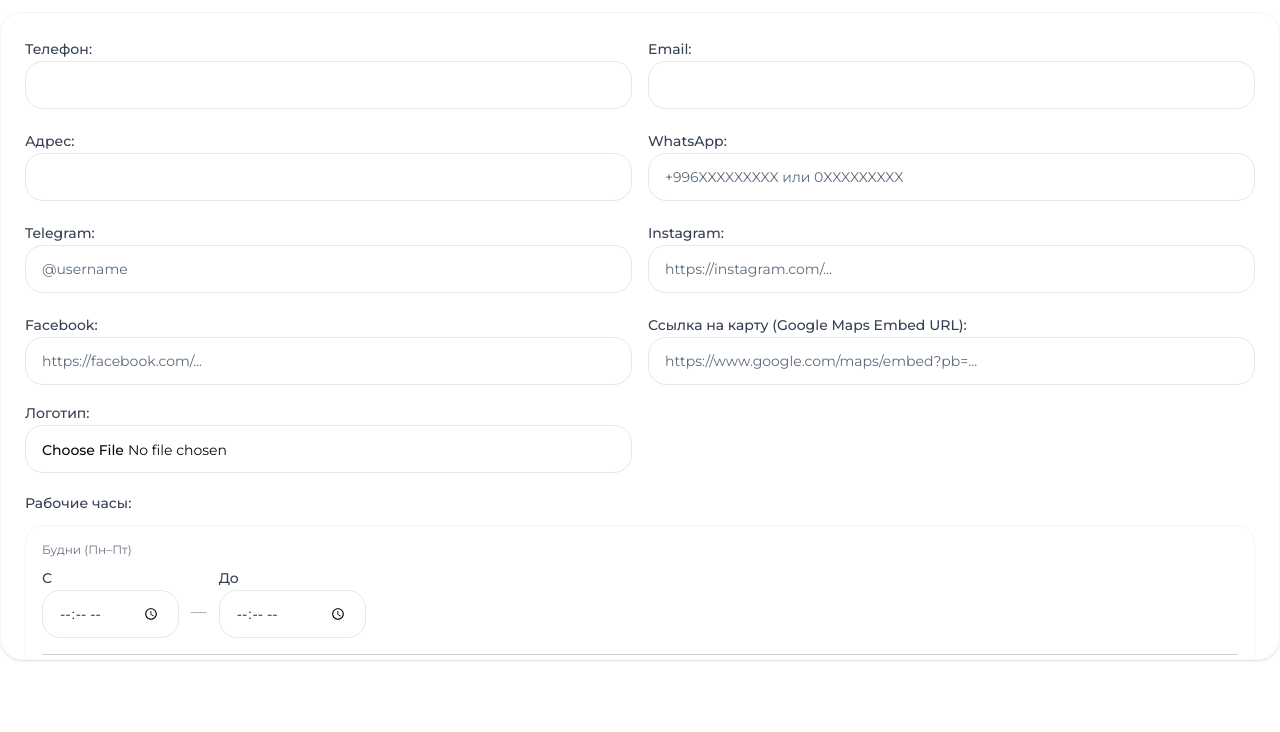
Test case: ContactSettingsForm › рабочие часы › требует время для будней
Step 1. Type "+996700000000" into the field below "Телефон:" → {"x": 328, "y": 85}, box [25, 61, 632, 109]
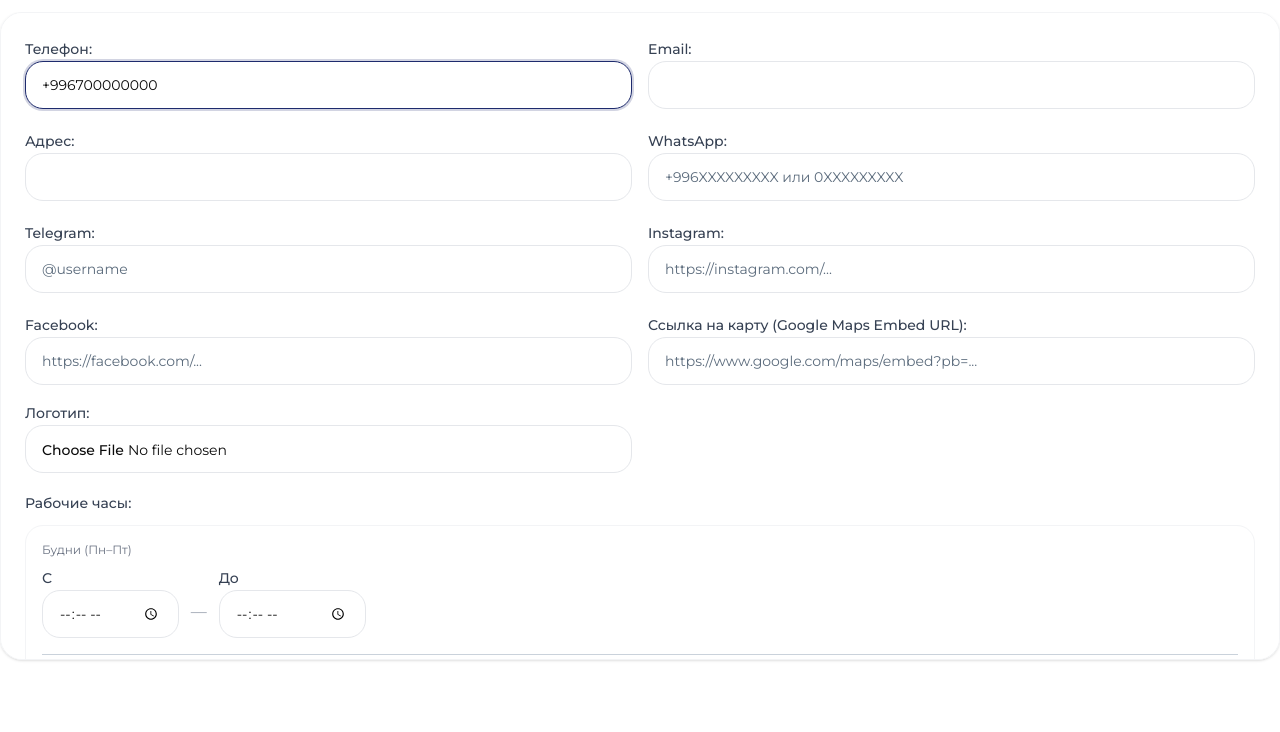
Step 2. Type "a@b.kg" into the field below "Email:" → {"x": 952, "y": 85}, box [648, 61, 1255, 109]
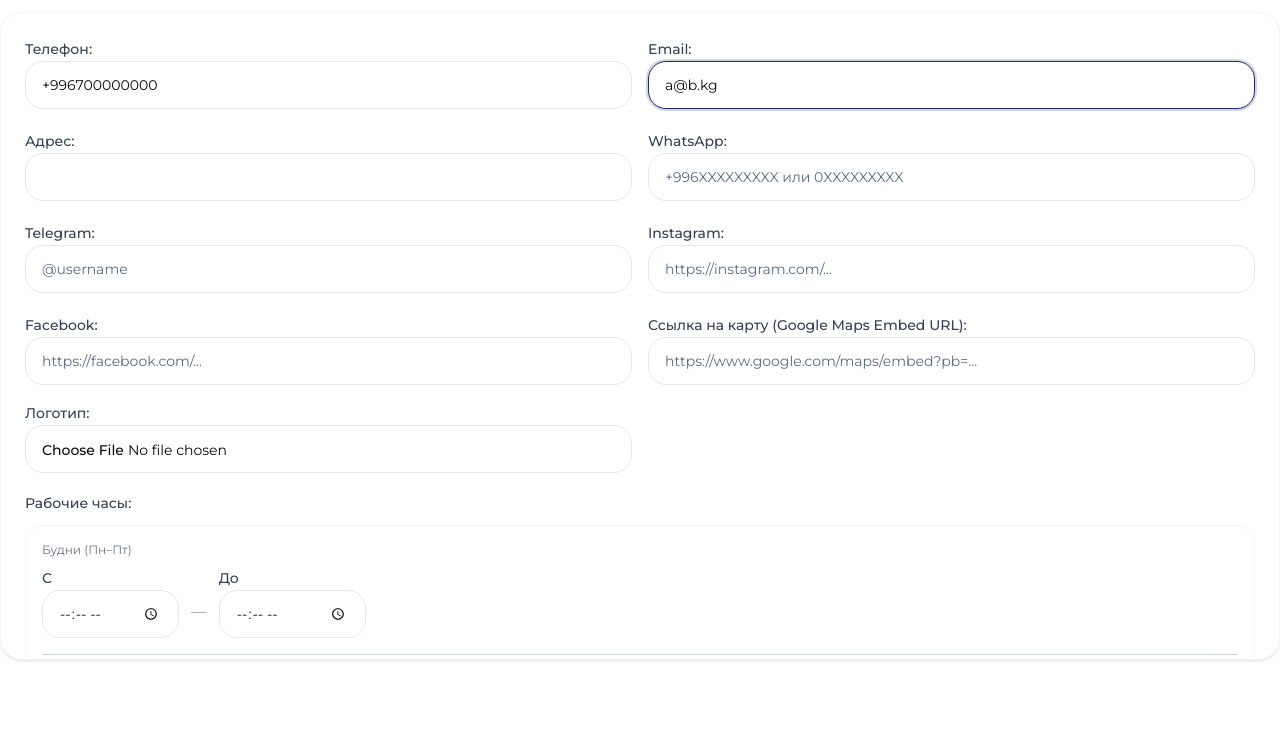
Step 3. Type "Адрес" into the field below "Адрес:" → {"x": 328, "y": 177}, box [25, 153, 632, 201]
(page scrolled)
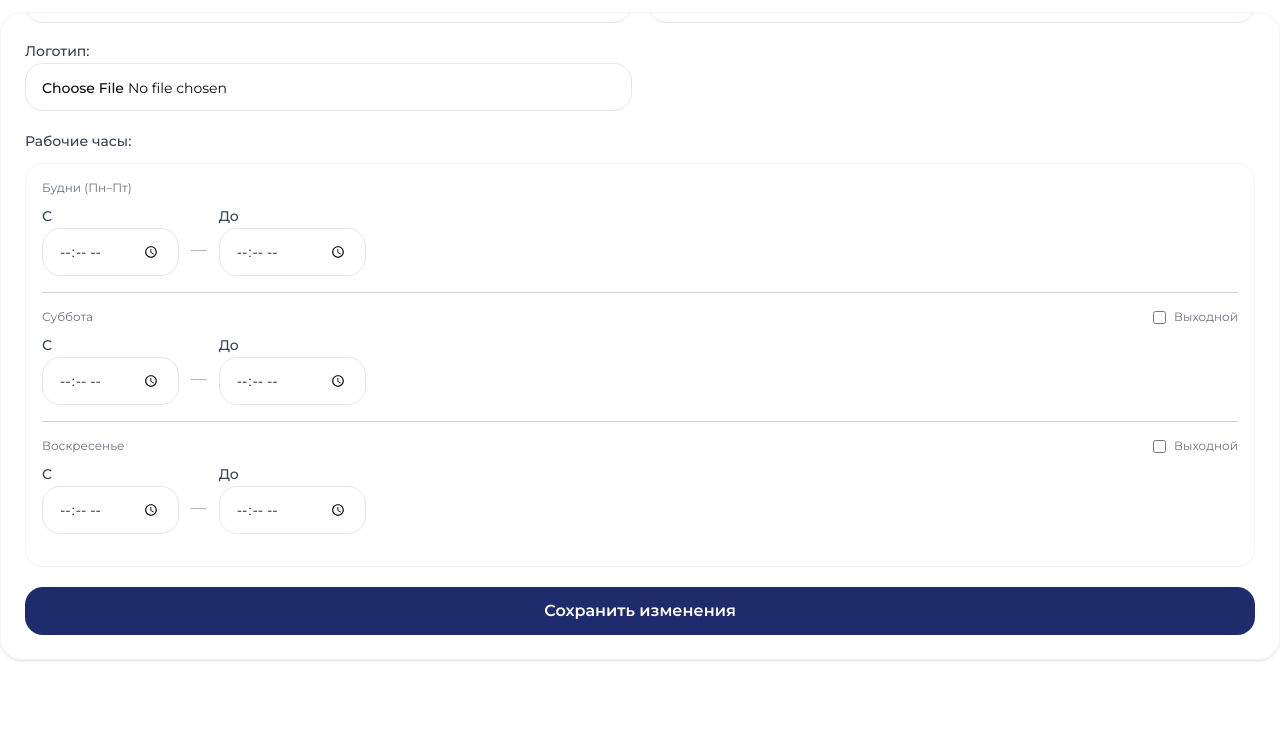
Step 4. Click the button "Сохранить изменения" → {"x": 640, "y": 611}, box [25, 587, 1255, 635]
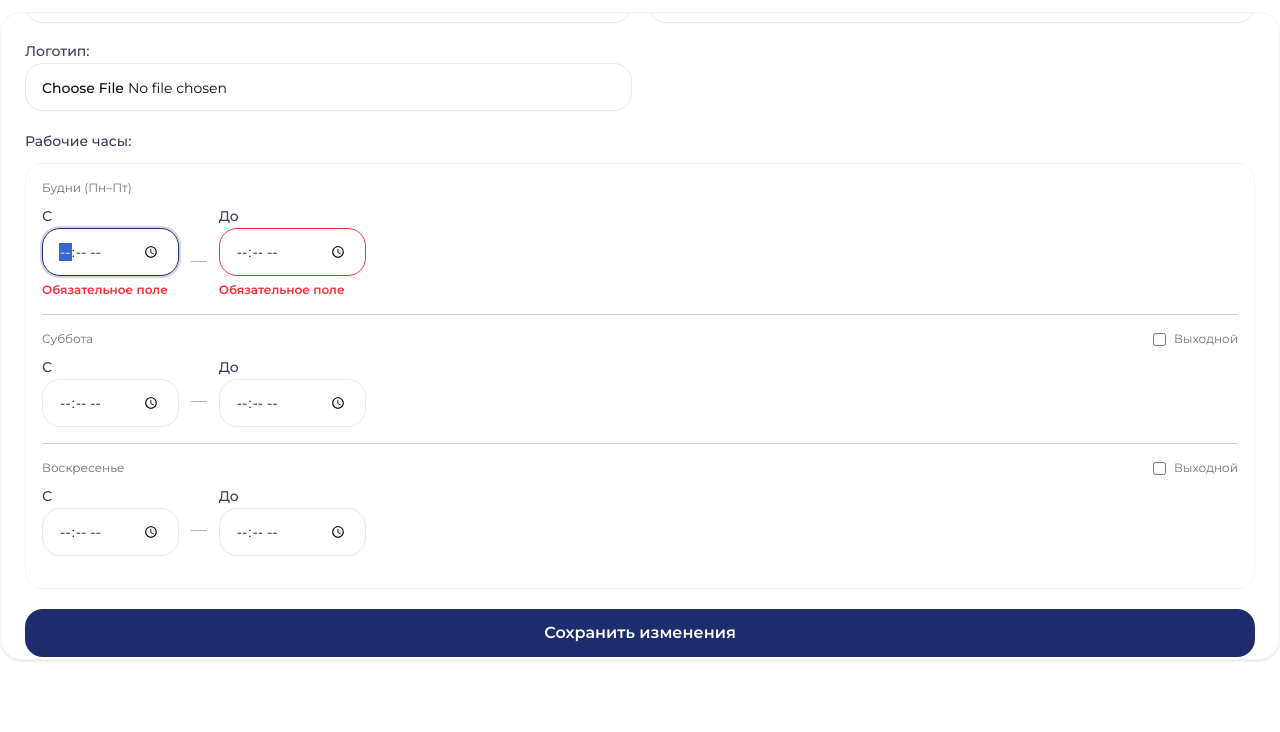
expect the text "Обязательное поле" is shown 2 times: met, box [42, 280, 179, 298]; [219, 280, 366, 298]
